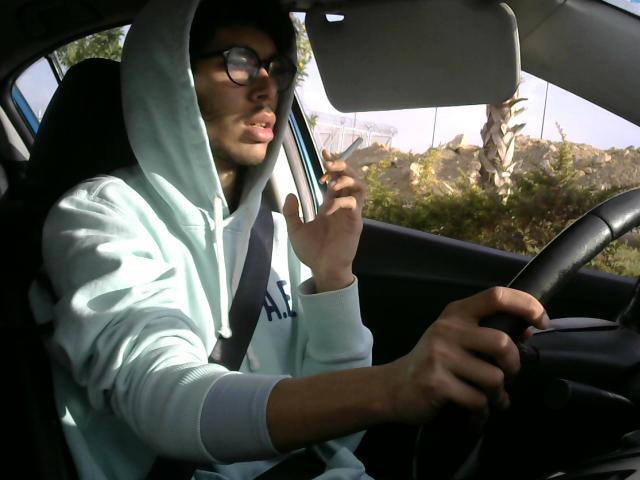Smoking: (317, 130, 367, 194)
